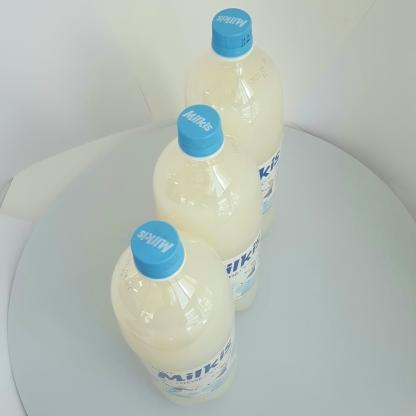-----1-5L: (111, 221, 237, 406), (185, 8, 284, 239), (153, 105, 263, 311)
